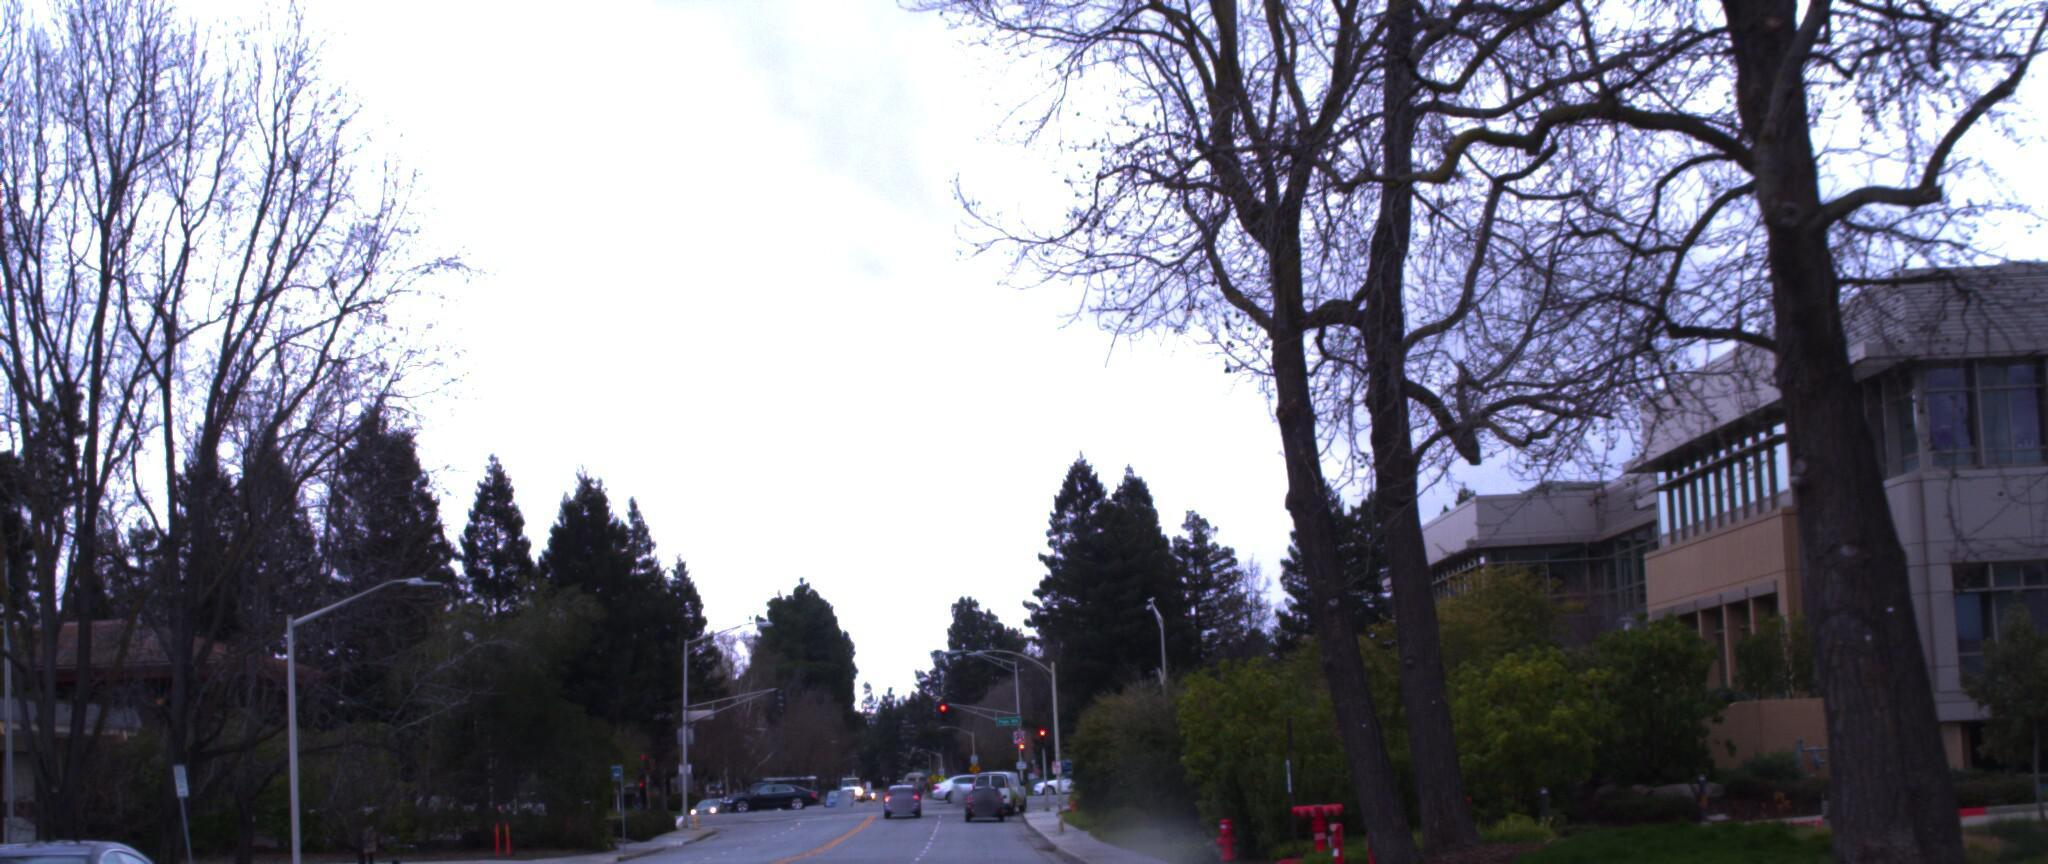car: (0, 821, 273, 864)
